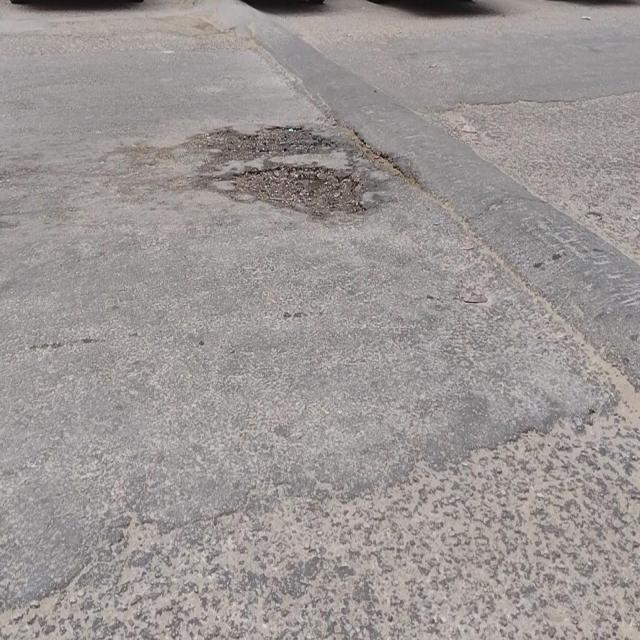Potholes: (214, 128, 359, 219)
